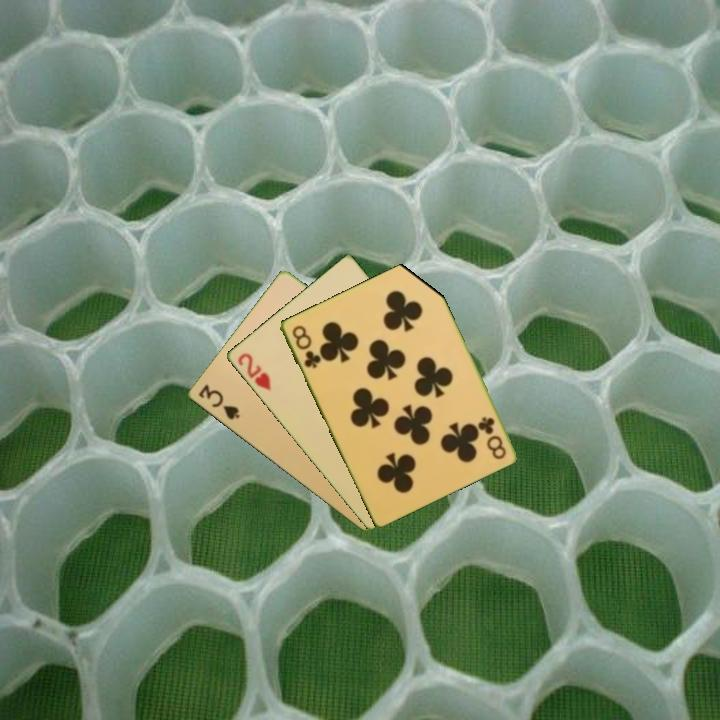2h: (234, 349, 274, 394)
3s: (195, 381, 242, 423)
8c: (288, 321, 323, 371), (475, 413, 509, 462)
